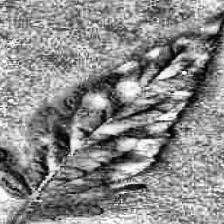leaf mold: (0, 9, 224, 221)
